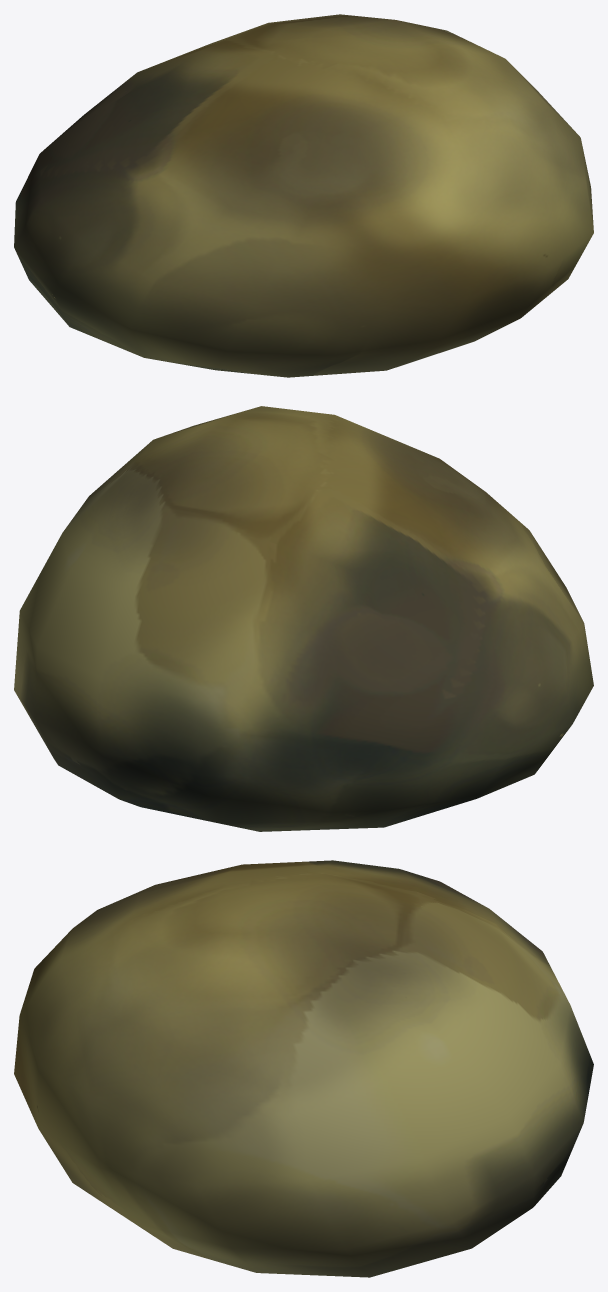
Rendered from rock 3.fbx.
3 views of the same model, one above another, from view 1: azimuth 30°, elevation 25°; view 2: azimuth 150°, elevation 25°; view 3: azimuth 270°, elevation 25° (orthographic). The views are drawn at different scales.
Visible parts, largest first — view 1: Cube; view 2: Cube; view 3: Cube.
Part boxes in pixels (x1,y1,x2,y2): Cube: (14,14,593,377); Cube: (14,406,593,831); Cube: (14,860,593,1277).
Size of the model in its own units: 471 by 270 by 432.
